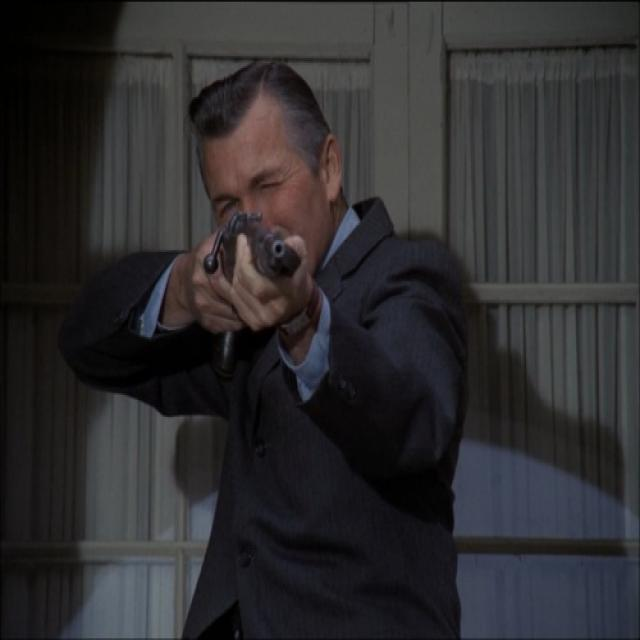rifle: (199, 210, 308, 372)
